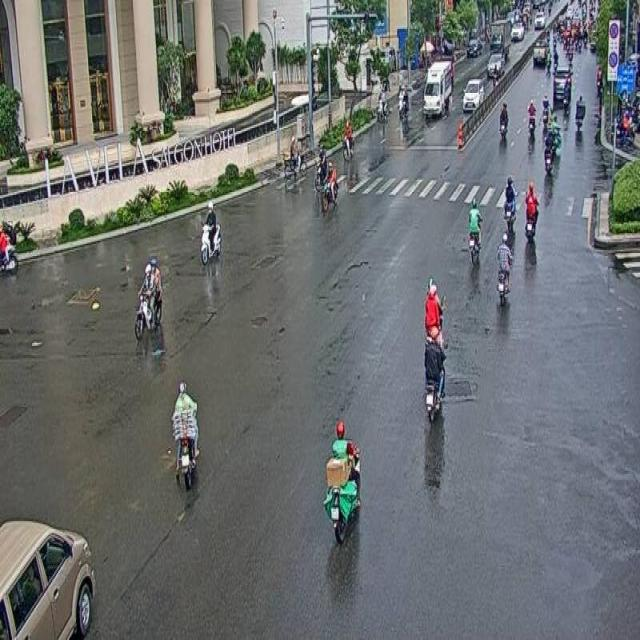car: (0, 518, 102, 640)
motorcycle: (322, 419, 360, 547), (174, 376, 202, 489), (135, 257, 164, 340), (422, 323, 444, 416), (200, 198, 222, 264), (494, 233, 512, 306), (467, 195, 482, 267), (284, 133, 307, 178), (524, 181, 538, 238), (503, 175, 516, 236), (314, 140, 327, 191), (342, 120, 354, 160)
